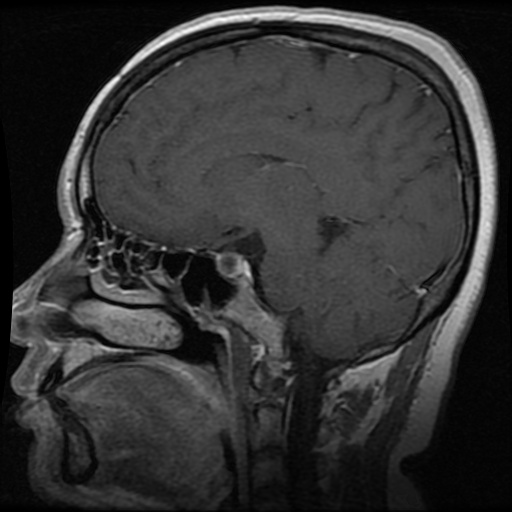pituitary: (213, 251, 252, 280)
